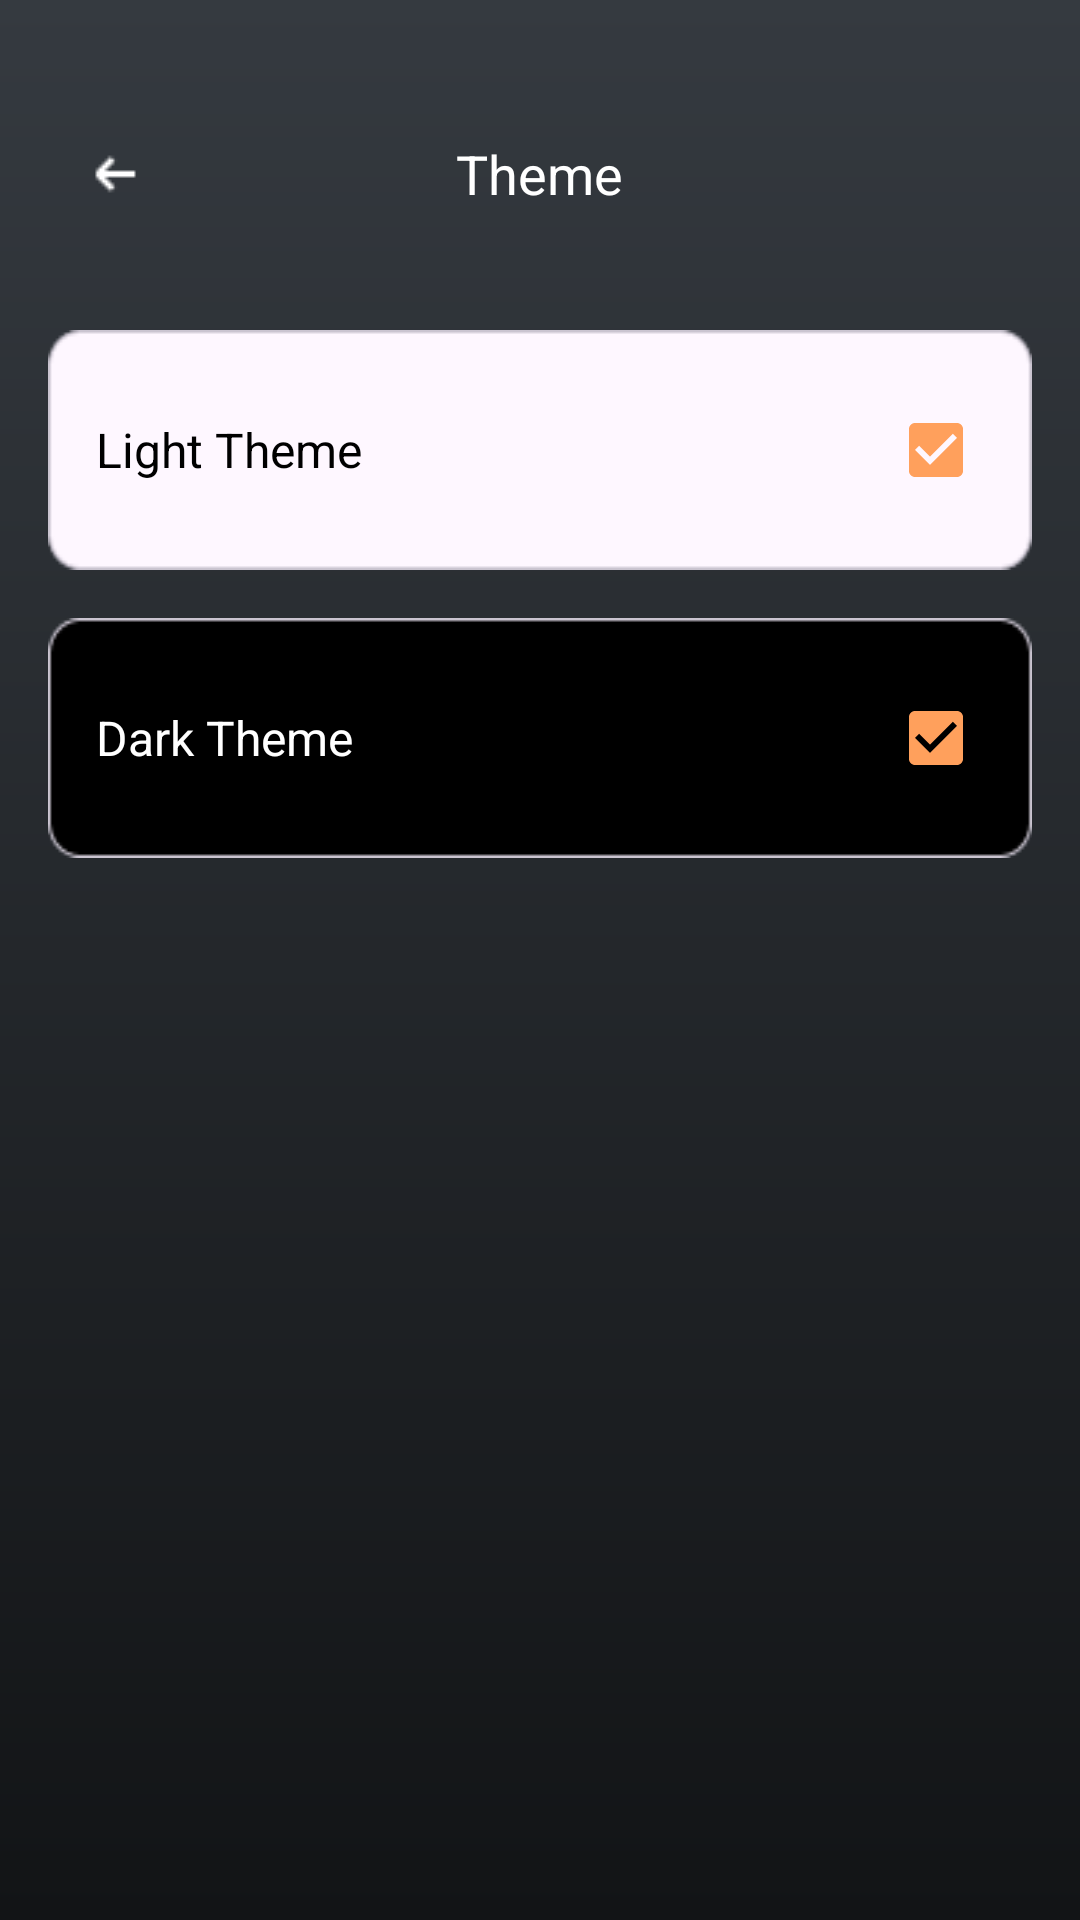

Locate icon controls on the screen. Image size 1080 × 1920, boxes as (left=x1, top=y1, right=x2, bottom=y2).
back arrow: (left=95, top=155, right=136, bottom=192)
